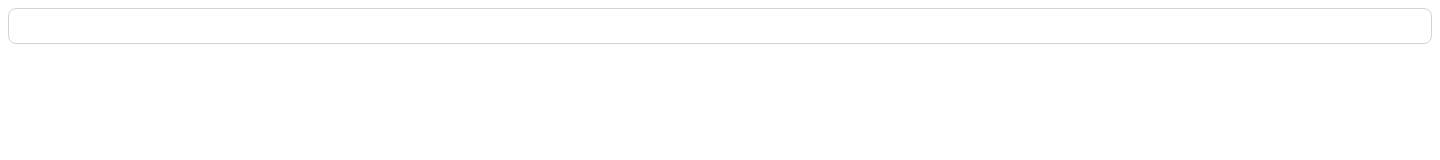
Test: SelectInput mode=searchable › shows nothingFoundMessage when nothing matches
In the dropdown: (720, 26) [8,8,1432,44], type "zzz"
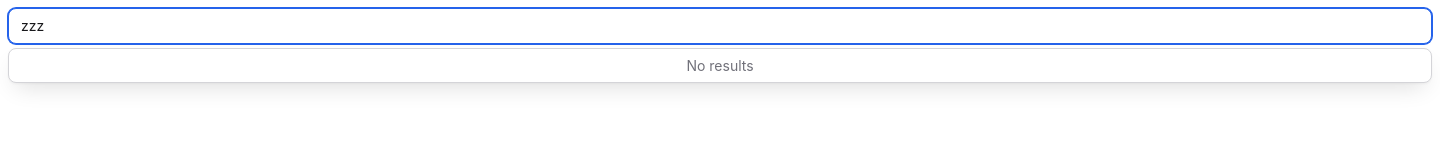
Now the message reads "No results", box [686,57,754,74]
